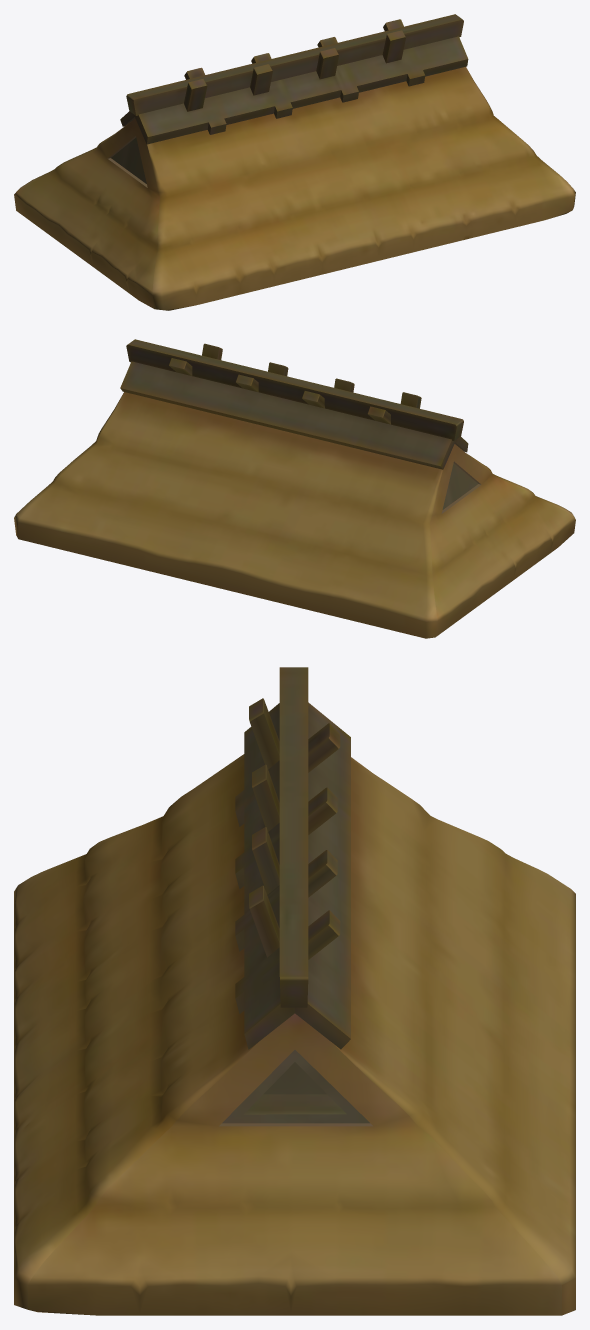
Rendered from roof-nc-thatched.glb.
3 renders of one model, top to bottom at view 1: azimuth 30°, elevation 25°; view 2: azimuth 150°, elevation 25°; view 3: azimuth 270°, elevation 25°, orthographic. The views are drawn at different scales.
Size of the model in its own units: 39.92 by 14.46 by 23.58.
Materials: 1 (1 with a texture image).
